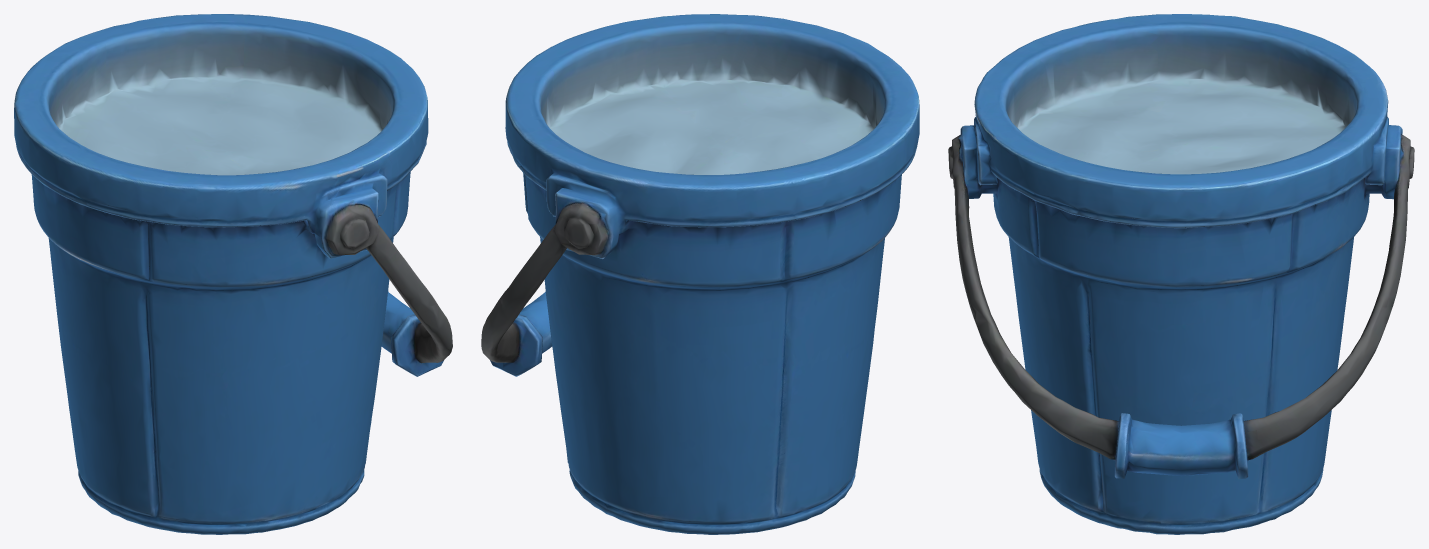
Rendered from balde.glb.
3 views of the same model, side by side, from view 1: azimuth 30°, elevation 25°; view 2: azimuth 150°, elevation 25°; view 3: azimuth 270°, elevation 25° (orthographic).
Parts seen in each view (by area): view 1: tripo_node_a13ca00a-a349-41a4-b168-1e9d003870ad; view 2: tripo_node_a13ca00a-a349-41a4-b168-1e9d003870ad; view 3: tripo_node_a13ca00a-a349-41a4-b168-1e9d003870ad.
Part boxes in pixels (x1,y1,x2,y2): tripo_node_a13ca00a-a349-41a4-b168-1e9d003870ad: (14, 14, 452, 534); tripo_node_a13ca00a-a349-41a4-b168-1e9d003870ad: (481, 14, 919, 534); tripo_node_a13ca00a-a349-41a4-b168-1e9d003870ad: (948, 14, 1414, 534).
Size of the model in its own units: 0.9328 by 0.8944 by 1.
Materials: 1 (1 with a texture image).
